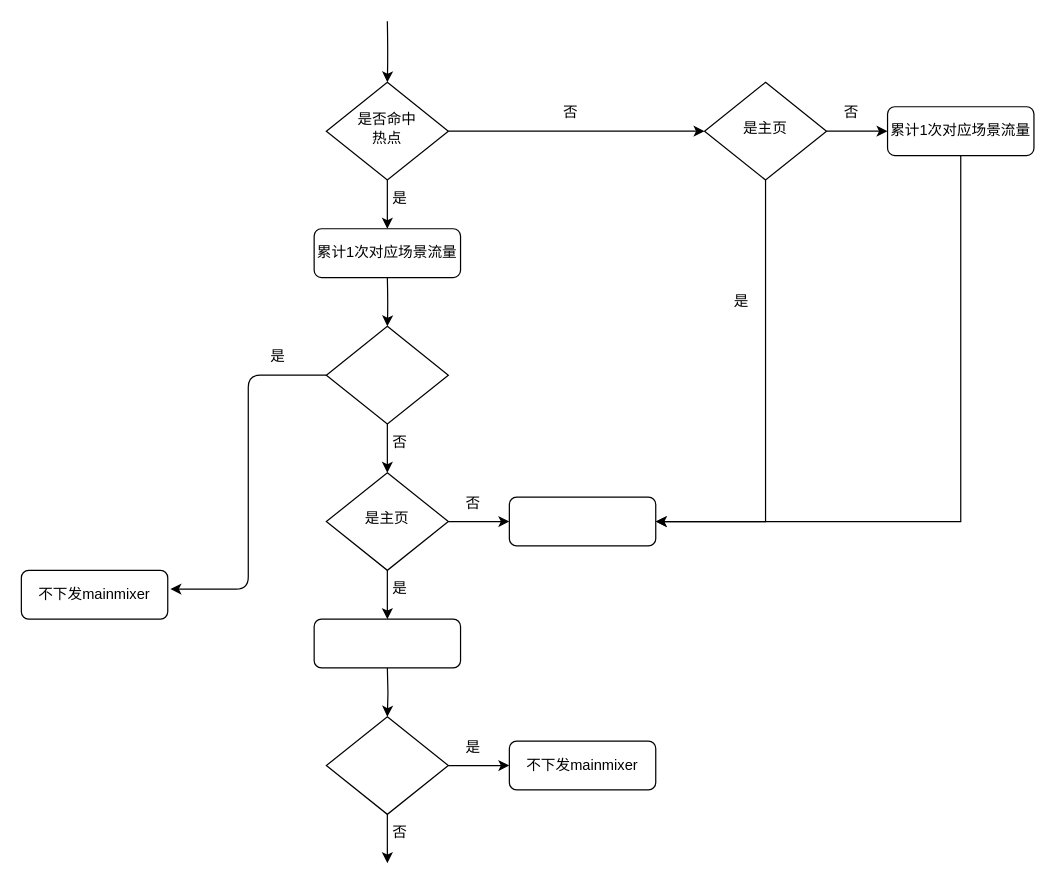
Some shapes in this 1055 by 883 pixel diagram are drawn without their labels. Each missing label, with the centre of its shape:
下发mainmixer: the point at 582,521
累计1次自然流量: the point at 387,643
达到热点 流量阈值: the point at 386,374
达到自然 流量阈值: the point at 386,765
